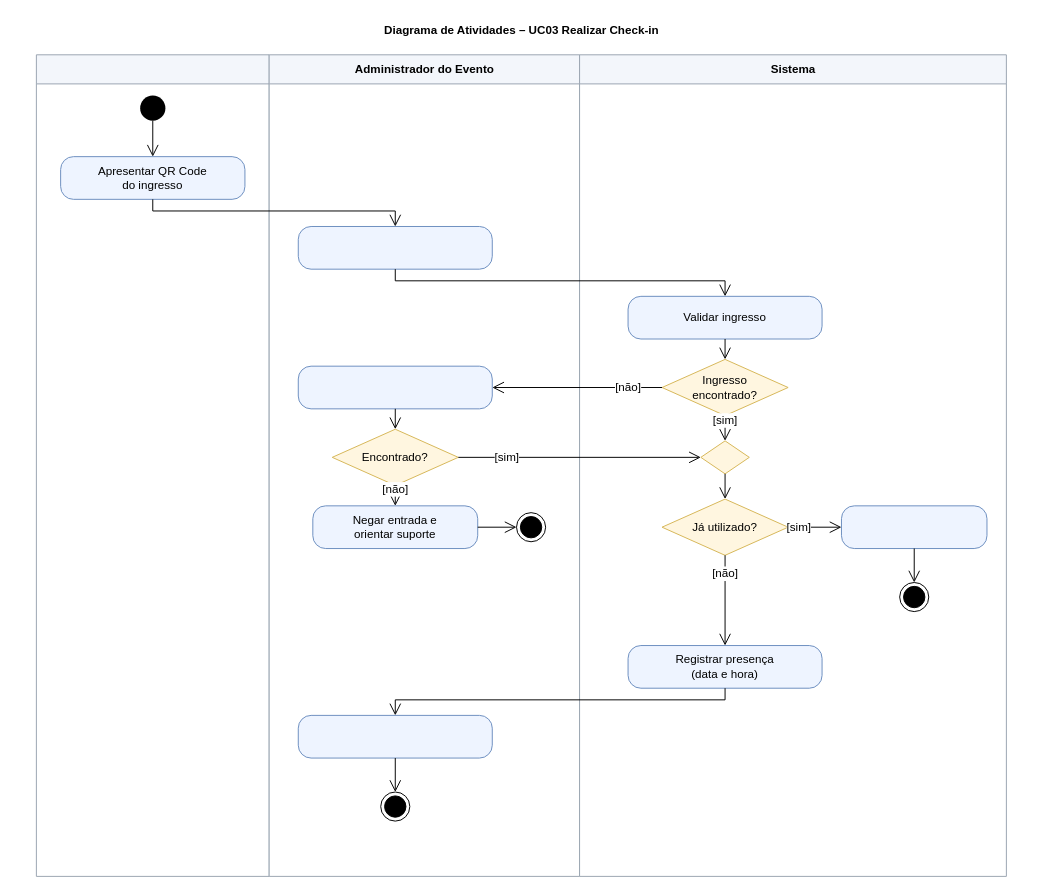
Some shapes in this 1042 by 893 pixel diagram are drawn without their labels. The shapes that lost their labels are listed below. From the top down, each one's box as (x1, y1, x2, y2) in pixels, then its label:
(297, 226, 492, 269): Ler QR Code
(297, 365, 492, 409): Buscar por nome ou CPF
(35, 54, 269, 876): Participante
(841, 505, 987, 549): Exibir alerta
(297, 714, 492, 758): Liberar entrada
